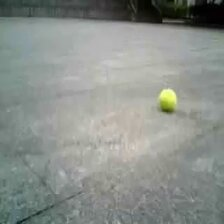tennis: (159, 90, 176, 111)
